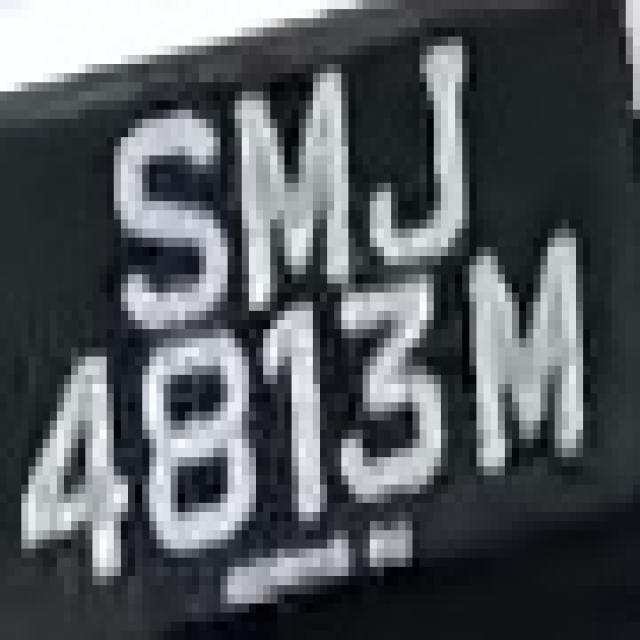1: (249, 283, 341, 576)
3: (320, 247, 441, 512)
4: (0, 320, 135, 622)
8: (114, 293, 249, 576)
J: (348, 18, 498, 265)
M: (213, 37, 363, 338), (441, 219, 597, 503)
S: (92, 101, 220, 338)
